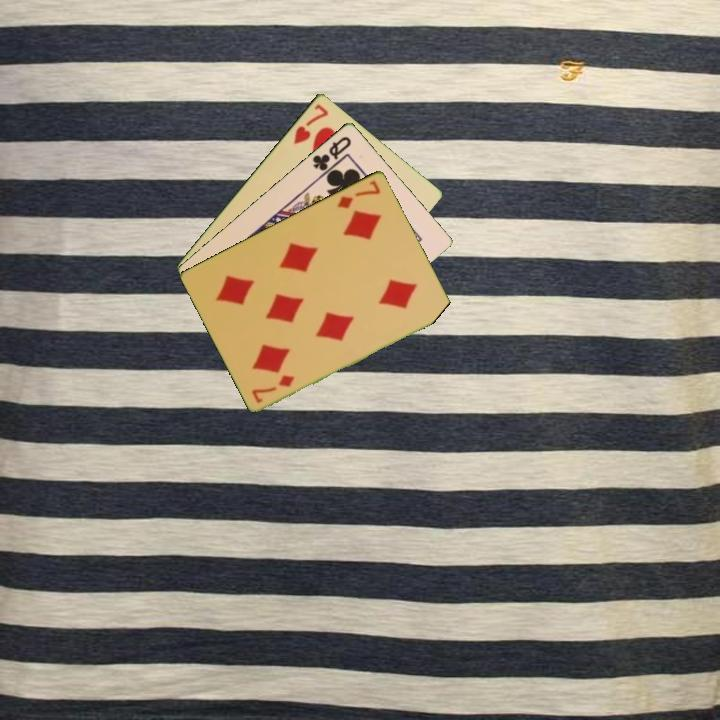7d: (333, 176, 383, 211), (248, 371, 298, 406)
7h: (290, 100, 331, 147)
Qc: (309, 132, 354, 179)
